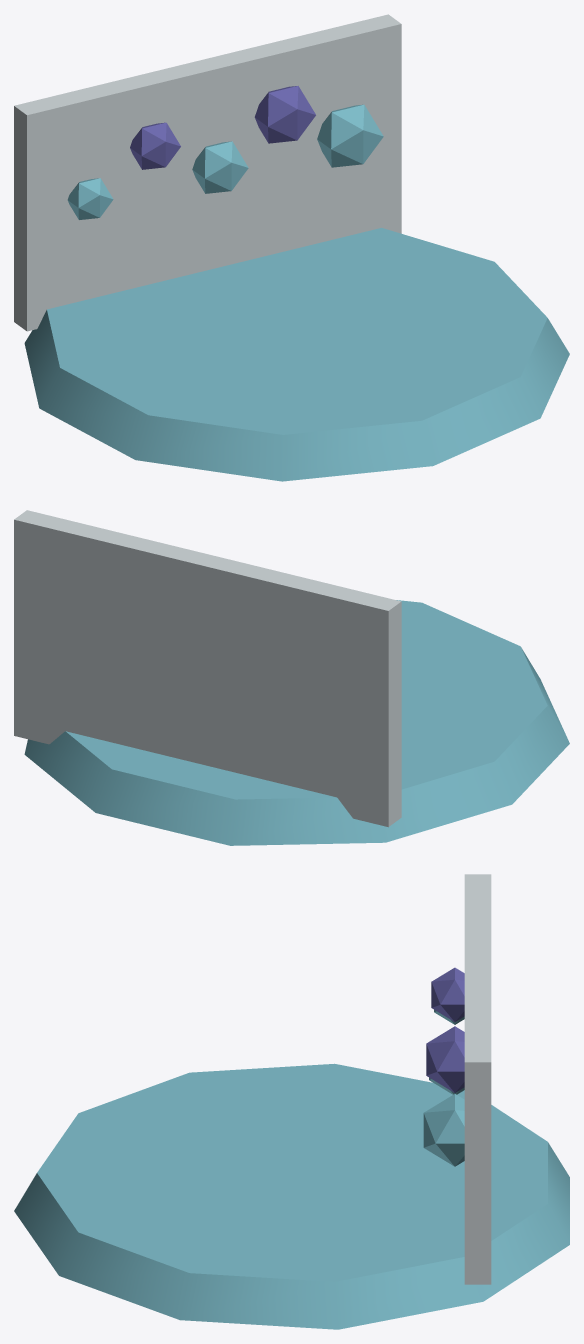
The model's file is stage.glb.
3 views of the same model, one above another, from view 1: azimuth 30°, elevation 25°; view 2: azimuth 150°, elevation 25°; view 3: azimuth 270°, elevation 25° (orthographic). The views are drawn at different scales.
Visible parts, largest first — view 1: stage_base, stage_backdrop, stage_emblem_4, stage_emblem_3, stage_emblem_2, stage_emblem_1, stage_emblem_0; view 2: stage_backdrop, stage_base; view 3: stage_base, stage_backdrop, stage_emblem_4, stage_emblem_3, stage_emblem_1.
Part boxes in pixels (x1,y1,x2,y2): stage_base: (24, 228, 569, 481); stage_backdrop: (14, 14, 401, 331); stage_emblem_4: (317, 104, 383, 167); stage_emblem_3: (254, 86, 315, 143); stage_emblem_2: (192, 141, 248, 193); stage_emblem_1: (130, 122, 180, 169); stage_emblem_0: (67, 178, 113, 219); stage_backdrop: (14, 510, 401, 827); stage_base: (24, 600, 569, 845); stage_base: (14, 1063, 569, 1329); stage_backdrop: (464, 874, 491, 1284); stage_emblem_4: (423, 1094, 464, 1166); stage_emblem_3: (426, 1026, 464, 1092); stage_emblem_1: (431, 967, 464, 1021).
Size of what is drawn, in the model's own units: 7.32 by 3.5 by 7.25.
